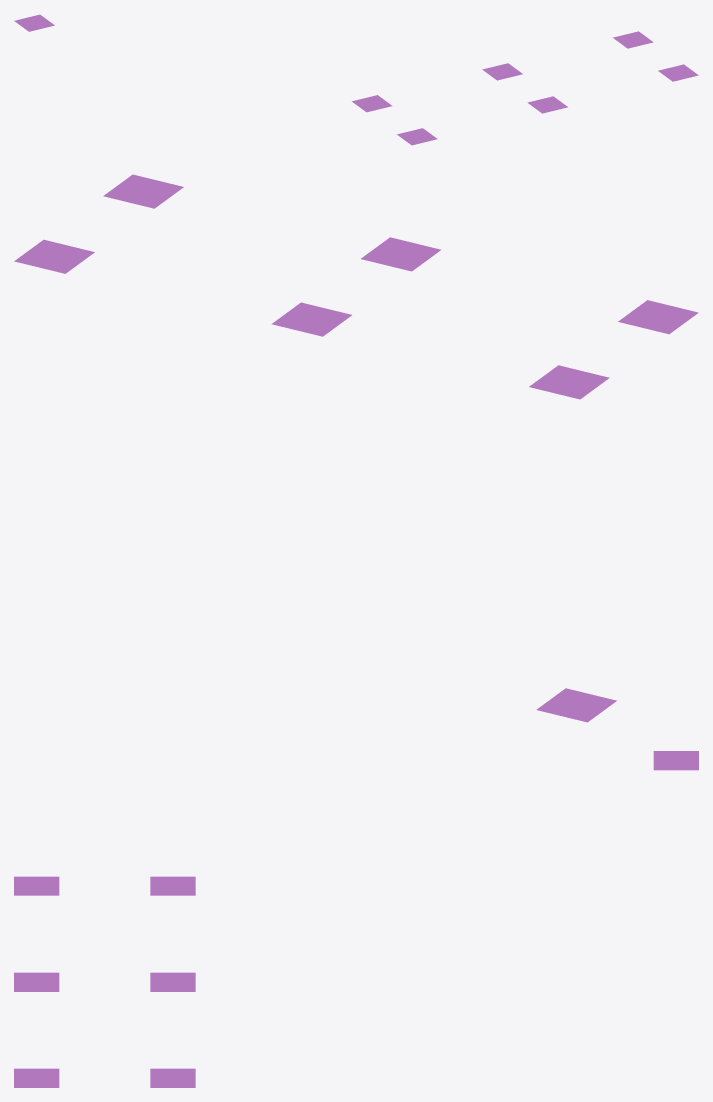
Rendered from sm_Stationfloor.fbx.
The picture shows the model from 3 angles, top to bottom: view 1: azimuth 30°, elevation 25°; view 2: azimuth 150°, elevation 25°; view 3: azimuth 270°, elevation 25°; orthographic projection. The views are drawn at different scales.
Visible parts, largest first — view 1: sm_KitchenFloor04__5_, sm_KitchenFloor04__3_, sm_KitchenFloor04__2_, sm_KitchenFloor04__6_, sm_KitchenFloor04__4_, sm_KitchenFloor04__1_, sm_KitchenFloor04__5_001; view 2: sm_KitchenFloor04__5_, sm_KitchenFloor04__1_, sm_KitchenFloor04__6_, sm_KitchenFloor04__2_, sm_KitchenFloor04__4_, sm_KitchenFloor04__3_, sm_KitchenFloor04__5_001; view 3: sm_KitchenFloor04__6_, sm_KitchenFloor04__5_, sm_KitchenFloor04__4_, sm_KitchenFloor04__3_, sm_KitchenFloor04__2_, sm_KitchenFloor04__1_, sm_KitchenFloor04__5_001.
Part boxes in pixels (x1=…): sm_KitchenFloor04__5_: x1=482, y1=63, x2=522, y2=80; sm_KitchenFloor04__3_: x1=658, y1=64, x2=698, y2=81; sm_KitchenFloor04__2_: x1=527, y1=96, x2=567, y2=113; sm_KitchenFloor04__6_: x1=352, y1=95, x2=391, y2=112; sm_KitchenFloor04__4_: x1=613, y1=31, x2=653, y2=48; sm_KitchenFloor04__1_: x1=397, y1=128, x2=437, y2=145; sm_KitchenFloor04__5_001: x1=14, y1=14, x2=54, y2=31; sm_KitchenFloor04__5_: x1=271, y1=302, x2=351, y2=336; sm_KitchenFloor04__1_: x1=618, y1=300, x2=698, y2=334; sm_KitchenFloor04__6_: x1=529, y1=365, x2=609, y2=399; sm_KitchenFloor04__2_: x1=361, y1=237, x2=441, y2=271; sm_KitchenFloor04__4_: x1=14, y1=239, x2=94, y2=273; sm_KitchenFloor04__3_: x1=103, y1=174, x2=183, y2=208; sm_KitchenFloor04__5_001: x1=536, y1=688, x2=616, y2=722; sm_KitchenFloor04__6_: x1=150, y1=876, x2=195, y2=895; sm_KitchenFloor04__5_: x1=150, y1=972, x2=195, y2=991; sm_KitchenFloor04__4_: x1=150, y1=1068, x2=195, y2=1087; sm_KitchenFloor04__3_: x1=14, y1=1068, x2=59, y2=1087; sm_KitchenFloor04__2_: x1=14, y1=972, x2=59, y2=991; sm_KitchenFloor04__1_: x1=14, y1=876, x2=59, y2=895; sm_KitchenFloor04__5_001: x1=653, y1=751, x2=698, y2=770.
Size of the model in its own units: 3507 by 0.000122 by 3014.
